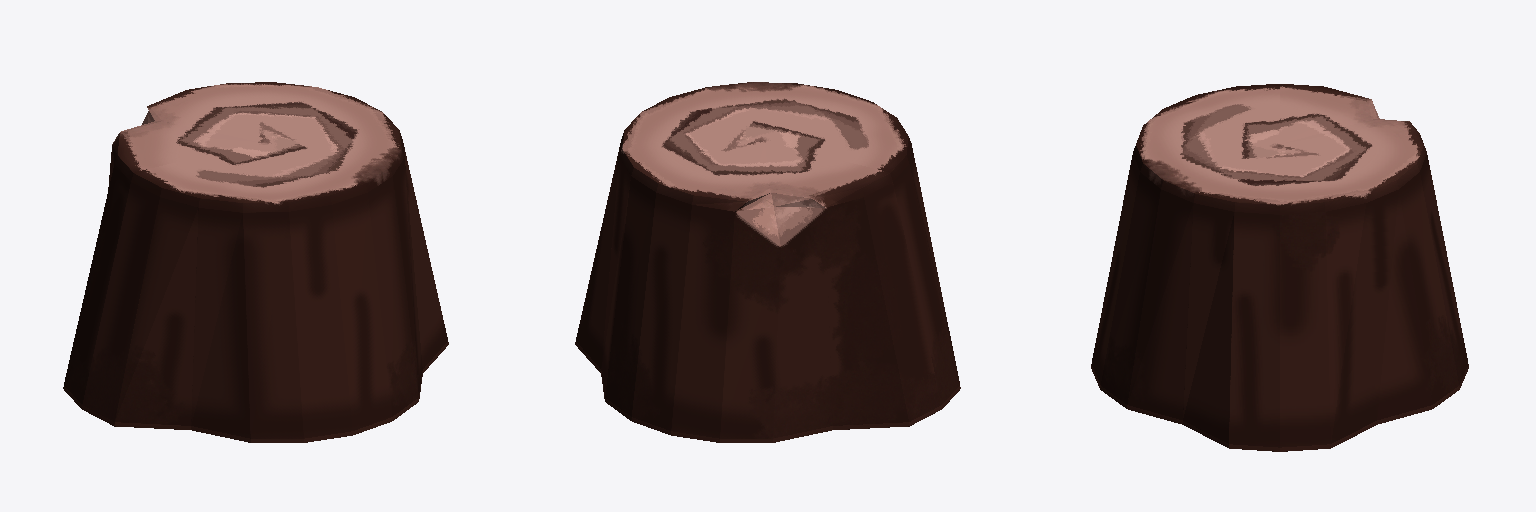
3 renders of one model, left to right at view 1: azimuth 30°, elevation 25°; view 2: azimuth 150°, elevation 25°; view 3: azimuth 270°, elevation 25°, orthographic.
Visible parts, largest first — view 1: pCylinder1; view 2: pCylinder1; view 3: pCylinder1.
Part boxes in pixels (x1,y1,x2,y2): pCylinder1: (63,82,448,442); pCylinder1: (575,82,960,442); pCylinder1: (1091,84,1468,451).
Bounding box in the file's own units: 2.8 × 1.74 × 2.63.
1 materials, 1 textured.